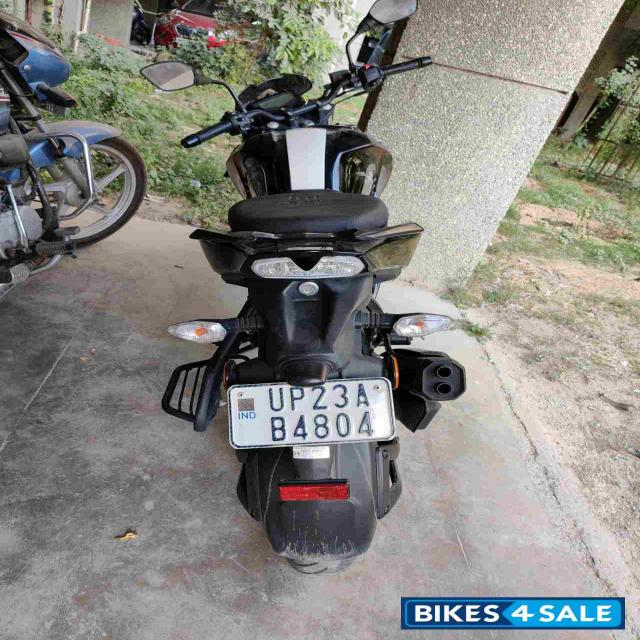license_plate: (226, 376, 396, 450)
